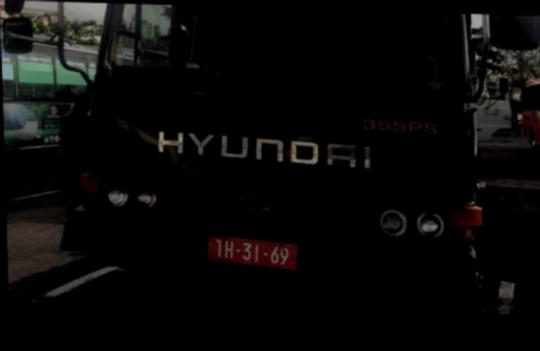License_Plate: (200, 234, 302, 280)
